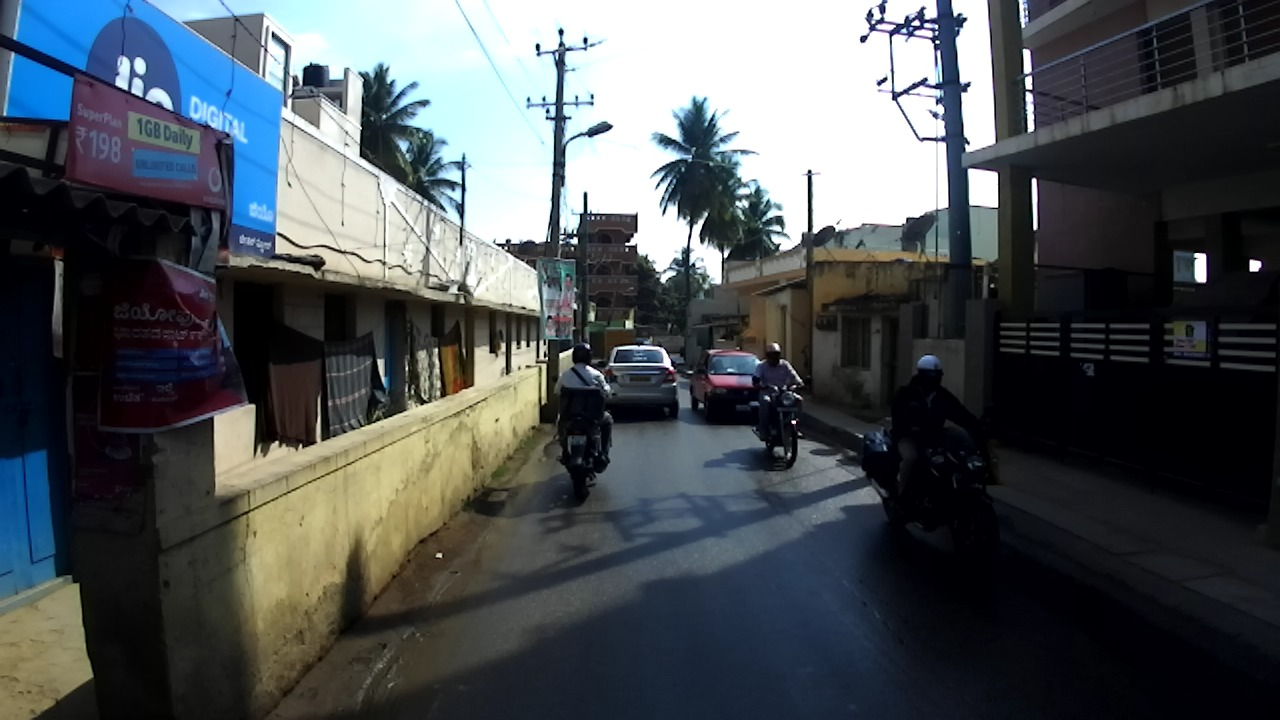car: (690, 350, 774, 425), (597, 344, 680, 419)
motorcycle: (861, 417, 1002, 562), (551, 372, 617, 500), (749, 376, 810, 470)
rider: (889, 355, 987, 512), (554, 342, 614, 461), (753, 343, 805, 443), (640, 331, 654, 344), (657, 339, 664, 348)
truck: (602, 327, 638, 366)
vehicle fallback: (639, 326, 655, 344)
